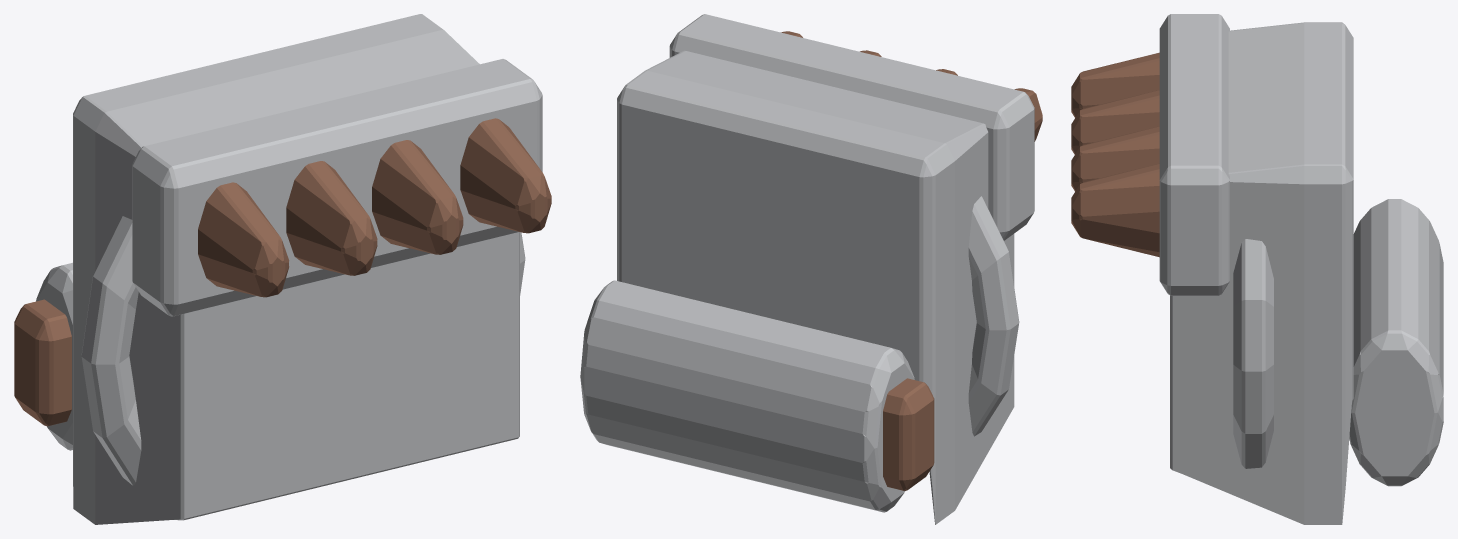
File: PU_ExtraDamage.fbx
3 views of the same model, side by side, from view 1: azimuth 30°, elevation 25°; view 2: azimuth 150°, elevation 25°; view 3: azimuth 270°, elevation 25° (orthographic). The views are drawn at different scales.
Parts seen in each view (by area): view 1: PU_ExtraDamage; view 2: PU_ExtraDamage; view 3: PU_ExtraDamage.
Boxes of the visible parts, <box> form: PU_ExtraDamage: <box>14,14,551,524</box>; PU_ExtraDamage: <box>580,14,1042,524</box>; PU_ExtraDamage: <box>1071,14,1443,524</box>.
Bounding box in the file's own units: 0.6022 × 0.55 × 0.5162.
